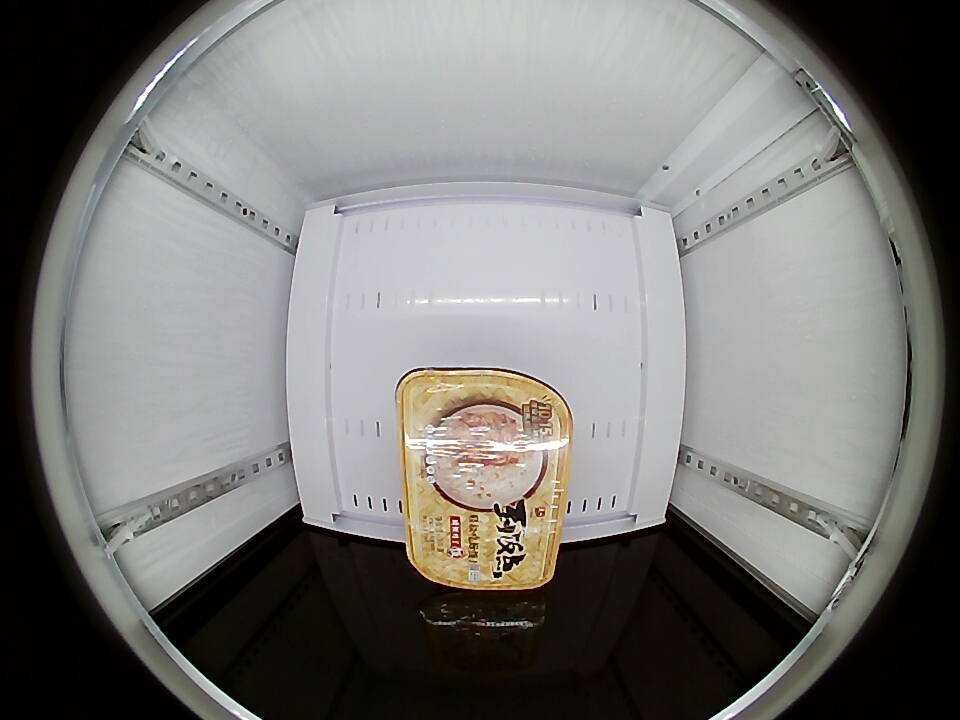daofandian4: (397, 365, 572, 592)
